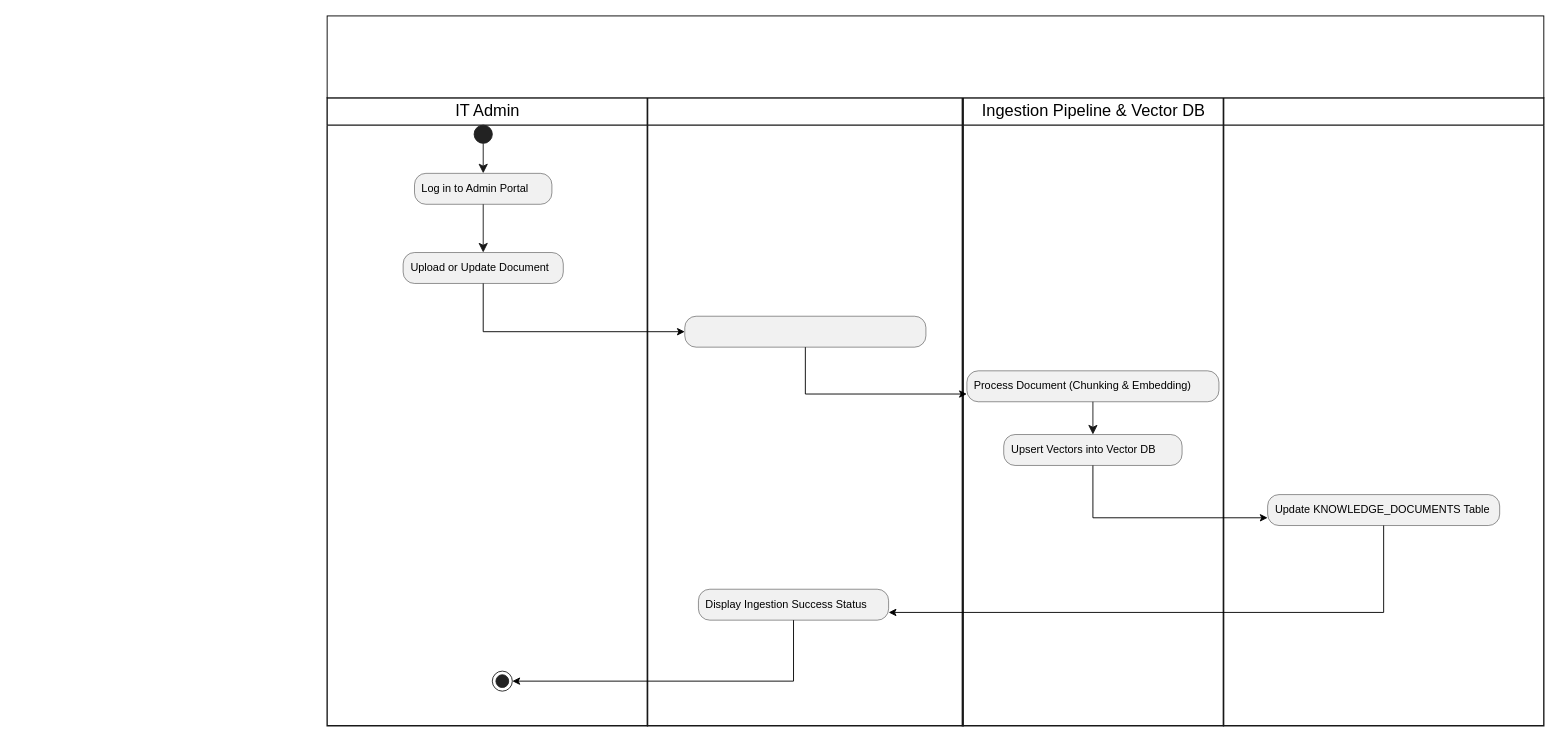
This 1560x743 diagram has some shape labels left out. The box of each missing label's shape, as (x1, y1, x2, y2) in pixels:
Admin Frontend: (646, 97, 964, 726)
IT Admin Knowledge Management: (326, 15, 1544, 98)
Relational Database: (1222, 97, 1544, 726)
Trigger Data Ingestion Pipeline: (684, 316, 926, 347)
